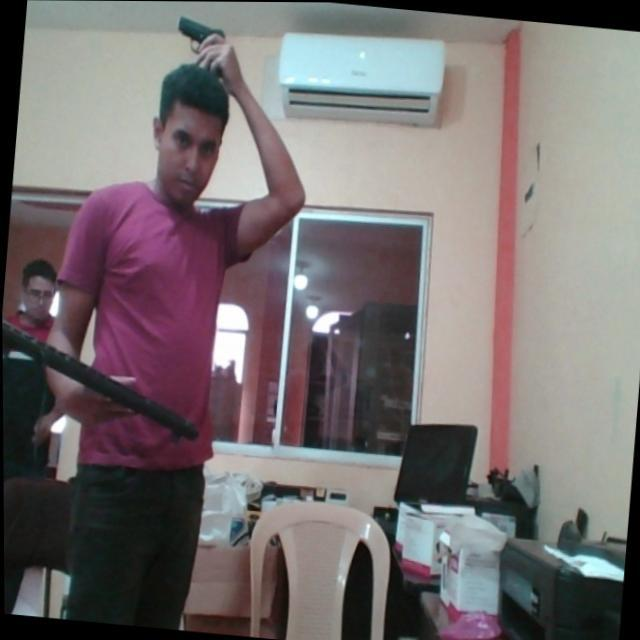weapon: (170, 1, 235, 76)
